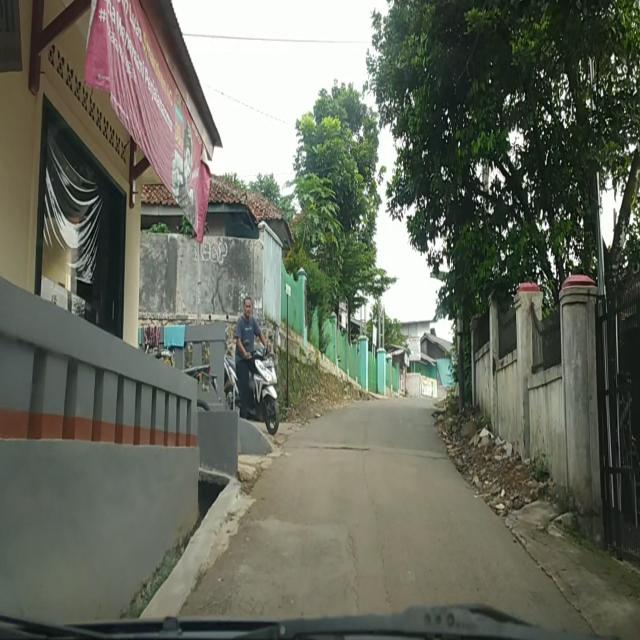Sewer Cover: (309, 443, 373, 454)
